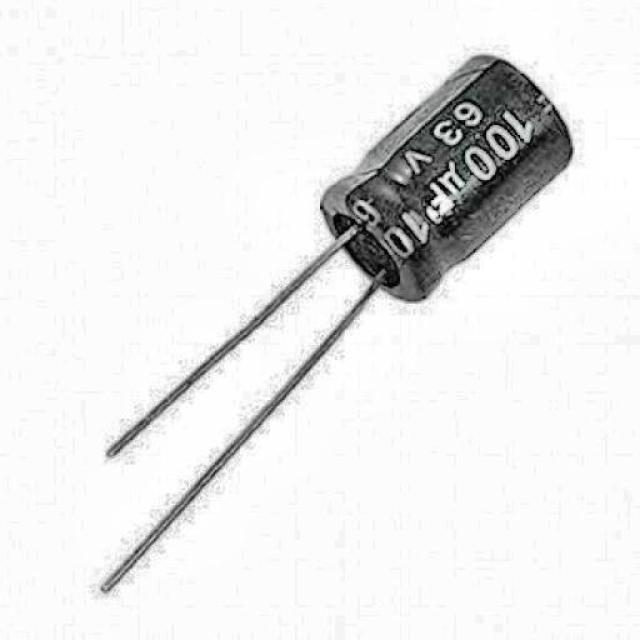Capacitor: (13, 17, 624, 621)
